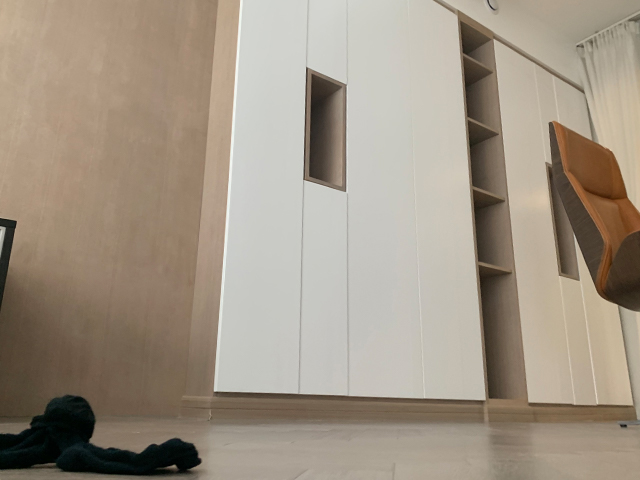cabinet: (176, 1, 640, 424)
socks: (1, 393, 203, 476)
